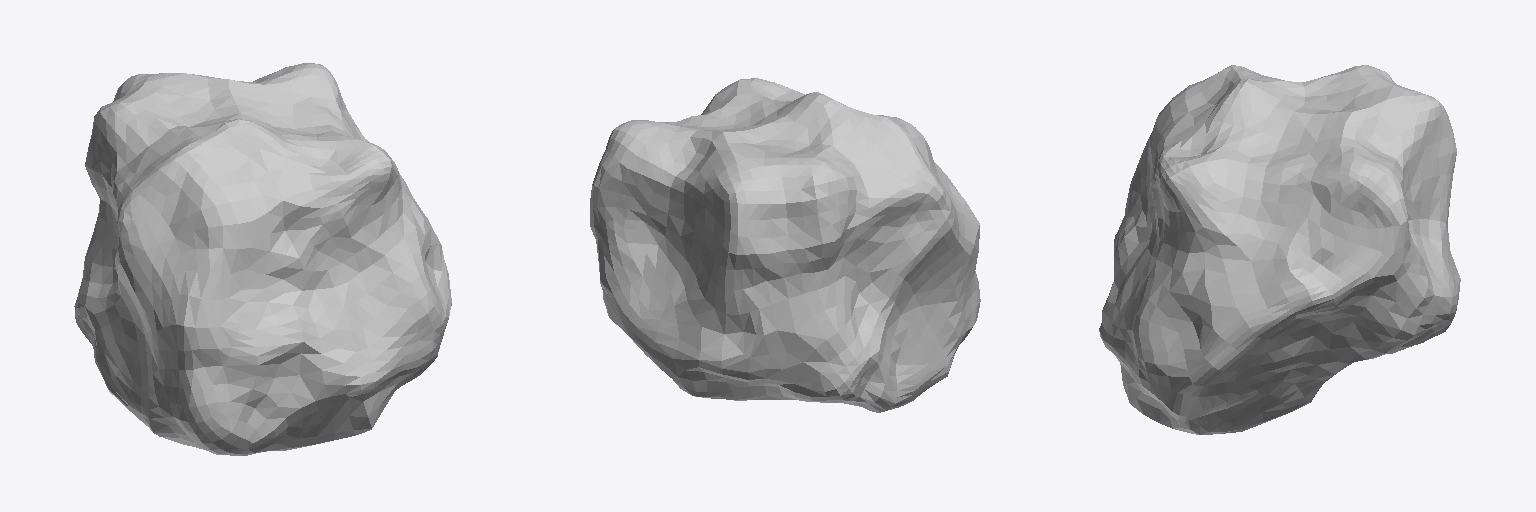
The model's file is asteroide1.obj.
The picture shows the model from 3 angles: view 1: azimuth 30°, elevation 25°; view 2: azimuth 150°, elevation 25°; view 3: azimuth 270°, elevation 25°; orthographic projection.
Visible parts, largest first — view 1: Asteroid_no_1; view 2: Asteroid_no_1; view 3: Asteroid_no_1.
Part boxes in pixels (bbox=[...]): Asteroid_no_1: bbox=[74, 63, 451, 455]; Asteroid_no_1: bbox=[590, 78, 980, 412]; Asteroid_no_1: bbox=[1099, 65, 1460, 434].
Size of the model in its own units: 8.59 by 8.11 by 8.44.